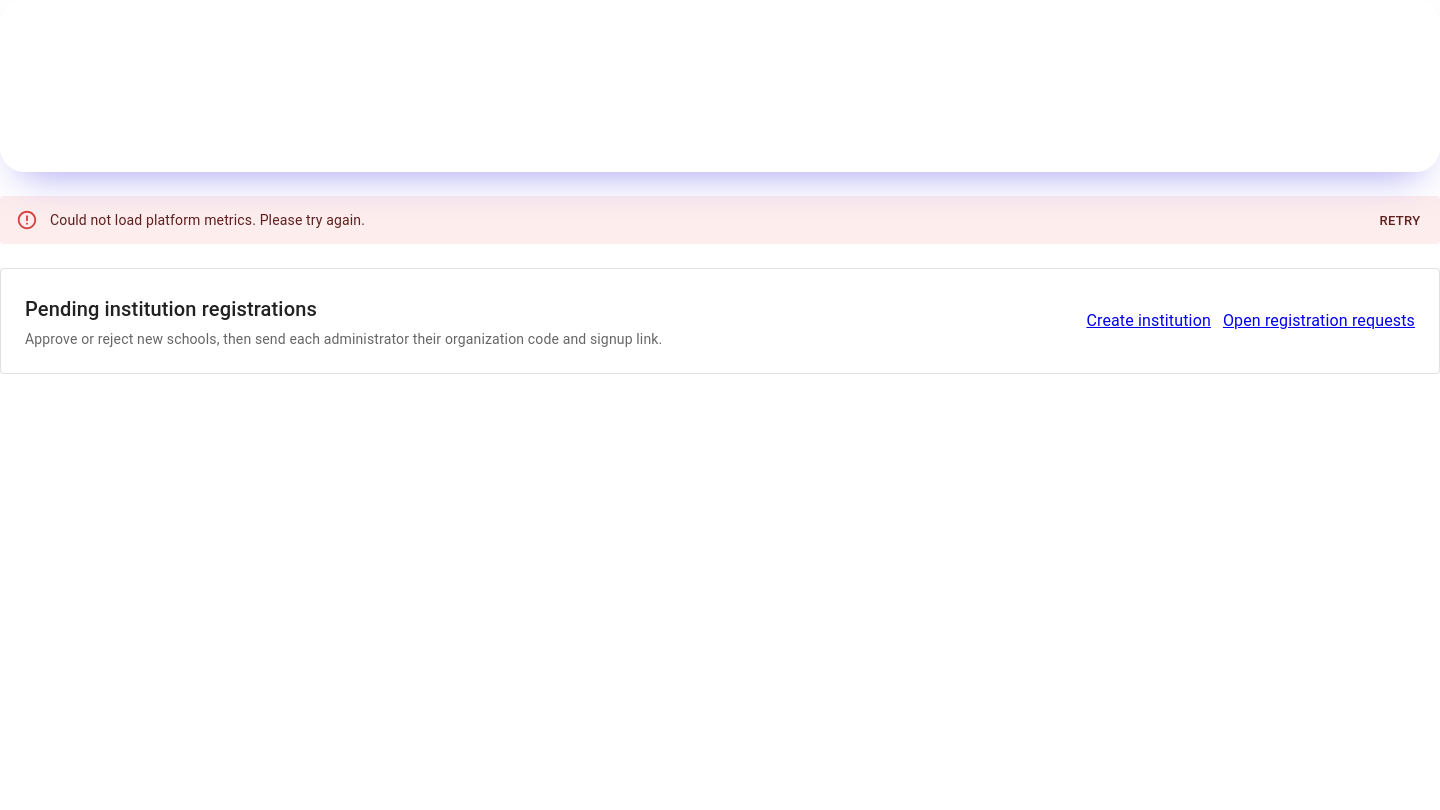
it: PlatformHomeContent › shows an error with retry when metrics fail to load
Expected: the text "Could not load platform metrics. Please try again." is shown, [50,212,365,228]
Click the button "Retry": click(1400, 221) [1368,206,1432,237]
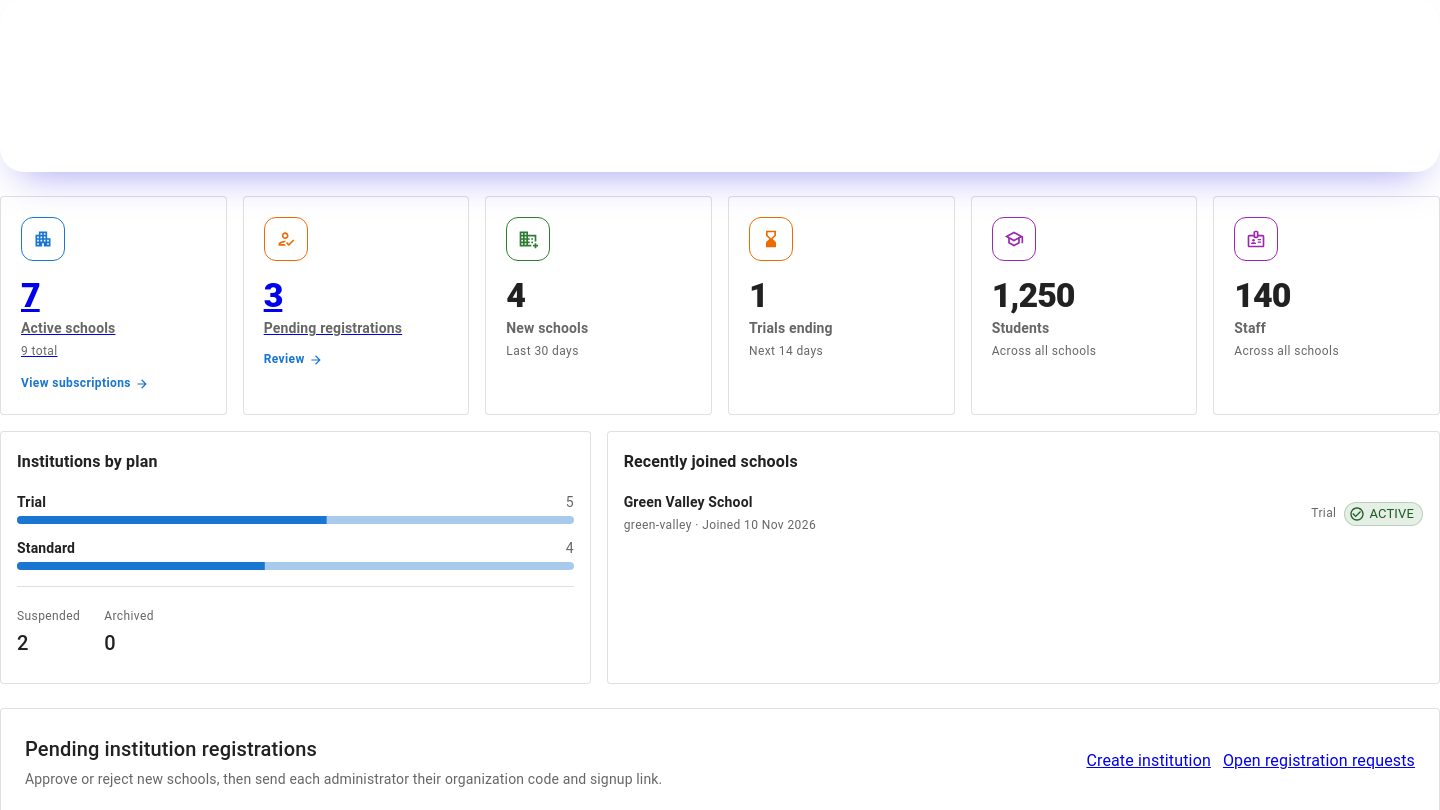
Now the text "Active schools" is shown, box [21,320,115,336]
